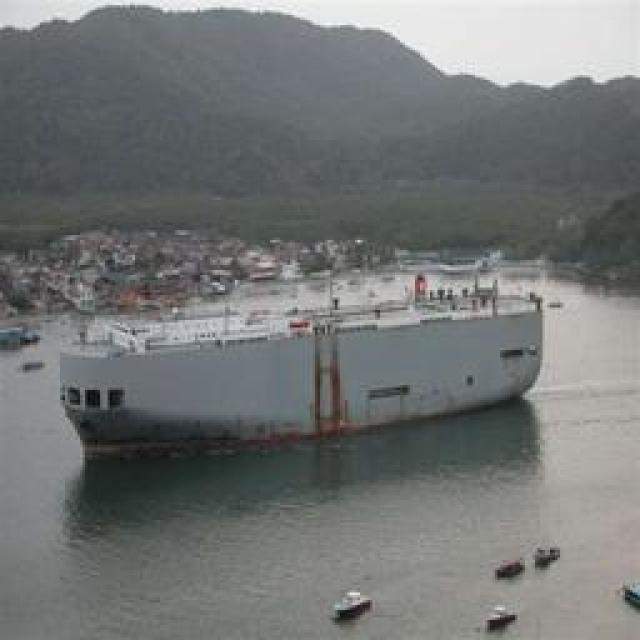CIV_Ship: (69, 288, 546, 460)
